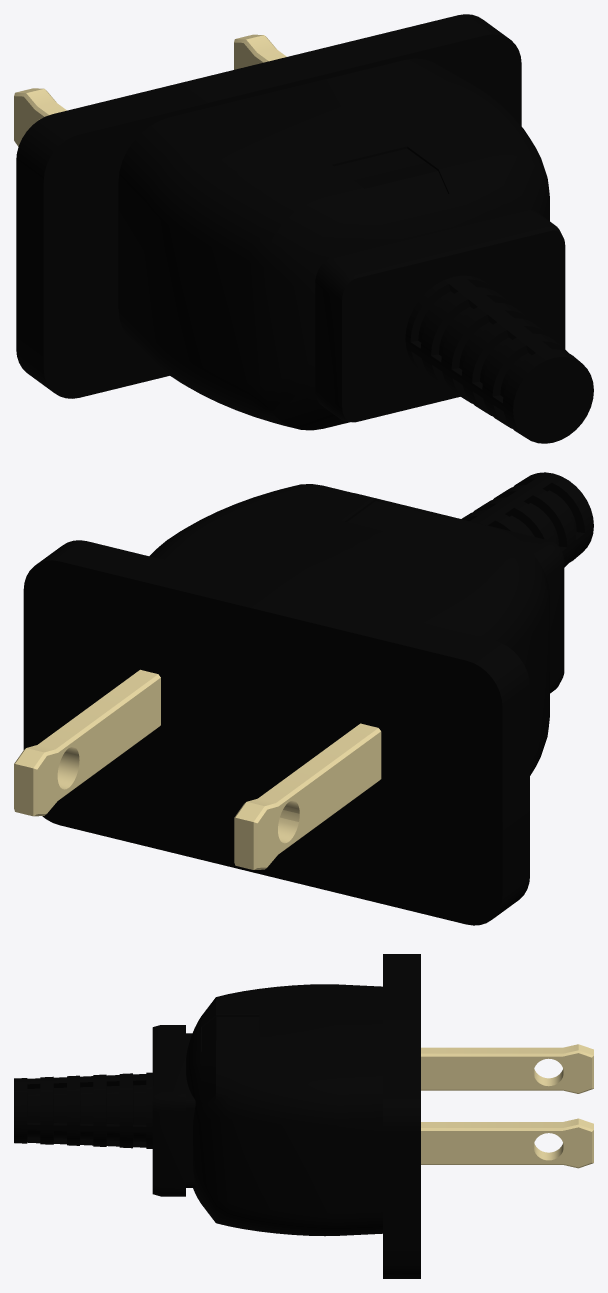
The model's file is brokenPlug.fbx.
3 renders of one model, top to bottom at view 1: azimuth 30°, elevation 25°; view 2: azimuth 150°, elevation 25°; view 3: azimuth 270°, elevation 25°, orthographic. The views are drawn at different scales.
Visible parts, largest first — view 1: ElectricPlug., PlugPoint; view 2: ElectricPlug., PlugPoint; view 3: ElectricPlug., PlugPoint.
Part boxes in pixels (x1=…): ElectricPlug.: x1=16, y1=14, x2=593, y2=443; PlugPoint: x1=14, y1=88, x2=66, y2=146; ElectricPlug.: x1=14, y1=472, x2=593, y2=925; PlugPoint: x1=234, y1=723, x2=381, y2=867; ElectricPlug.: x1=14, y1=954, x2=593, y2=1278; PlugPoint: x1=421, y1=1044, x2=593, y2=1093.
Bounding box in the file's own units: 59.46 × 31.32 × 90.27.
